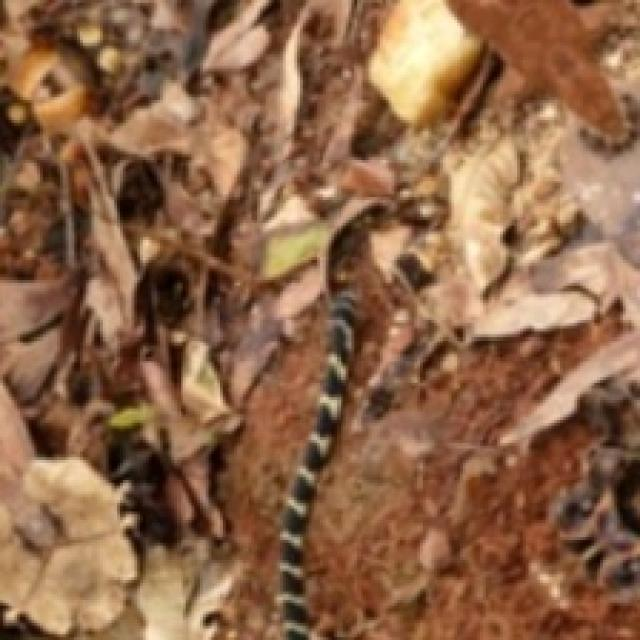king cobra: (280, 290, 354, 639)
